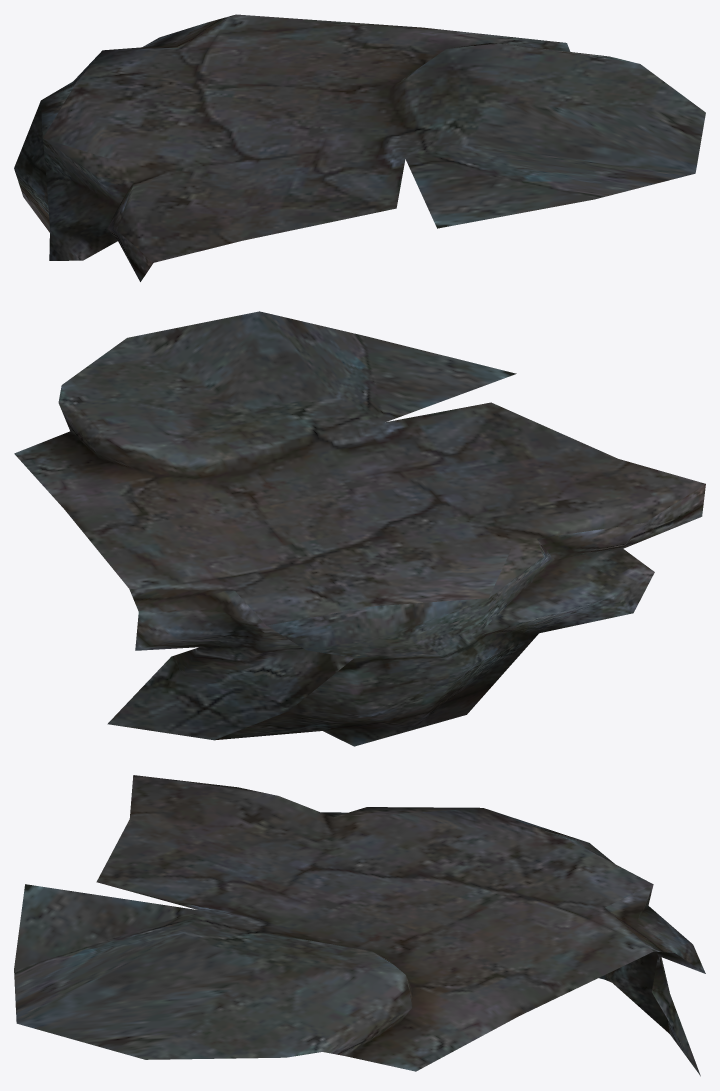
Rendered from S_Rock_Yellow036_H14.FBX.
The picture shows the model from 3 angles, top to bottom: view 1: azimuth 30°, elevation 25°; view 2: azimuth 150°, elevation 25°; view 3: azimuth 270°, elevation 25°; orthographic projection. The views are drawn at different scales.
Parts seen in each view (by area): view 1: S_Rock_Yellow036_H14; view 2: S_Rock_Yellow036_H14; view 3: S_Rock_Yellow036_H14.
Boxes of the visible parts, box(x1,y1,x2,y2) form: S_Rock_Yellow036_H14: box(14, 14, 705, 281); S_Rock_Yellow036_H14: box(14, 311, 705, 746); S_Rock_Yellow036_H14: box(14, 775, 705, 1076).
Size of the model in its own units: 951 by 913 by 233.
1 material, 1 textured.
